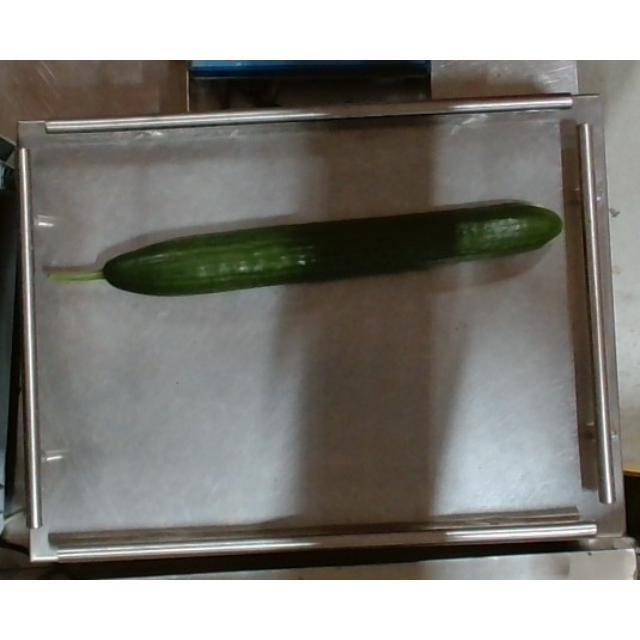cucumber: (43, 200, 563, 298)
